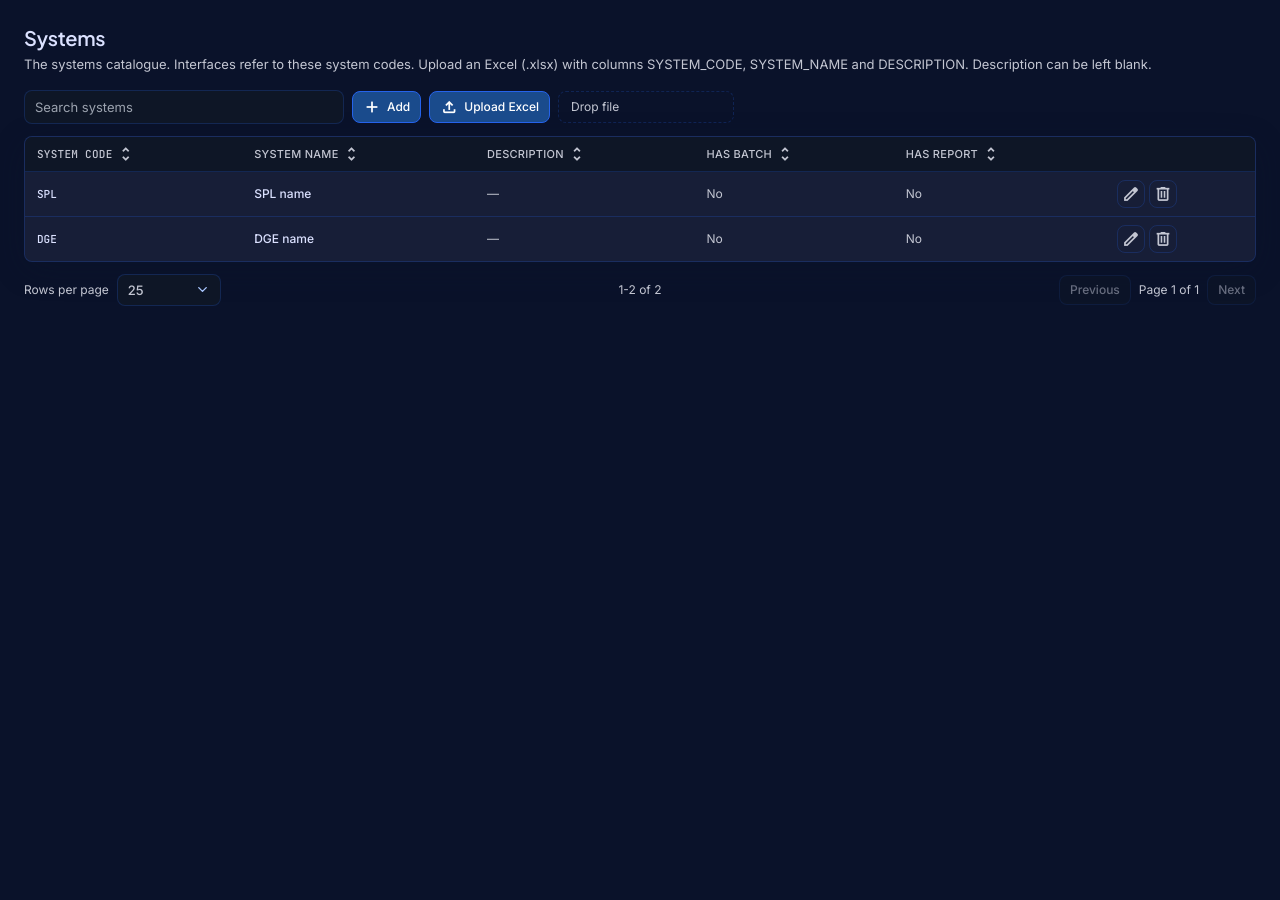
Test: warns with everything a system delete removes and needs the code typed
Expected: the text "SPL name" is shown, [242,172,475,216]
Click the button named "Delete SPL" at (1163,194), box [1149,180,1177,208]
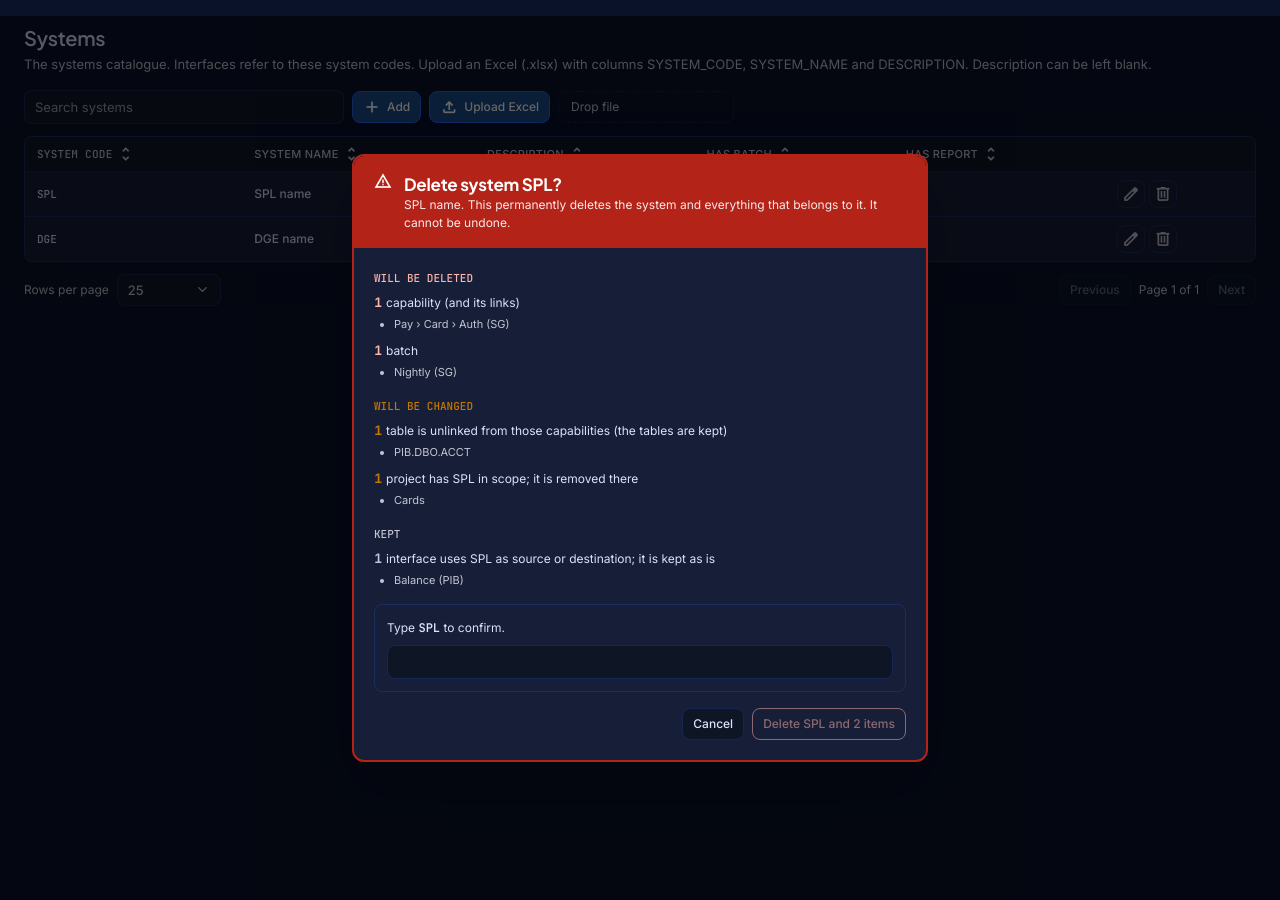
Now the list item "Pay › Card › Auth (SG)" is shown, box [394,317,510,331]
Now the list item "Nightly (SG)" is shown, box [394,365,457,379]
Now the list item "PIB.DBO.ACCT" is shown, box [394,445,471,459]
Type "spl" into the field named "Type the system code to confirm" at (640,662), box [387,645,893,679]
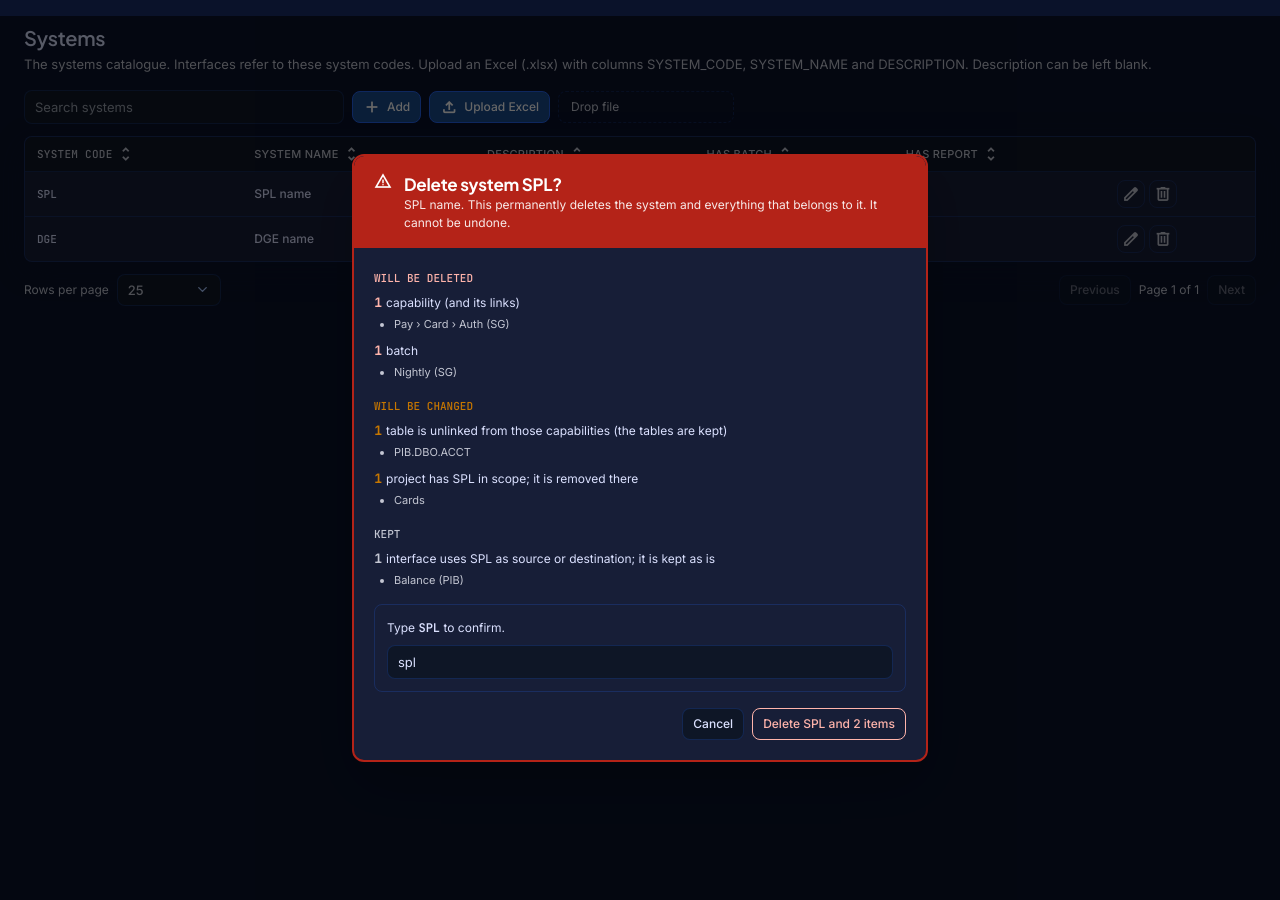
Now the button "Delete SPL and 2 items" is enabled
Click the button "Delete SPL and 2 items" at (829,724), box [752,708,906,740]
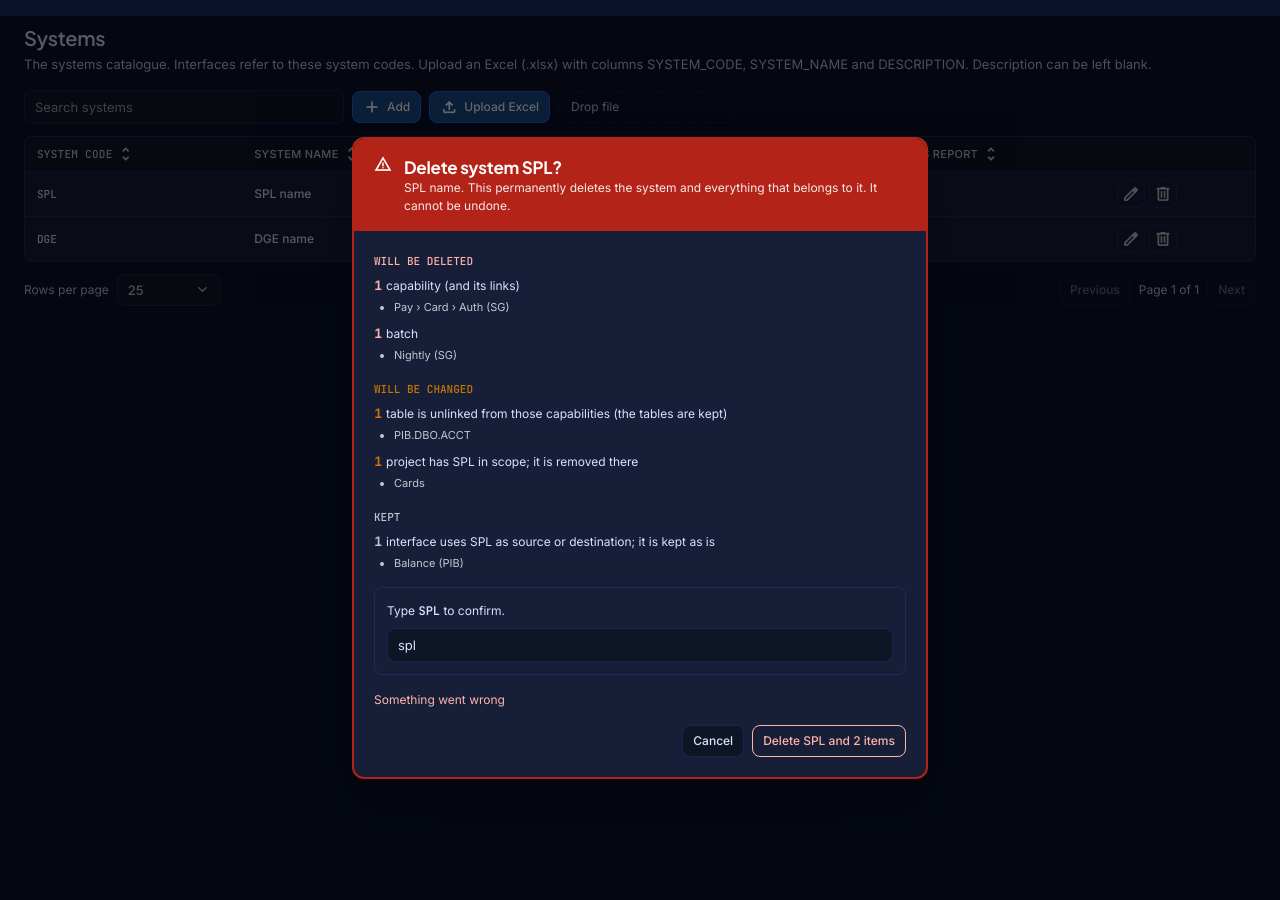
Expected: the text "SPL name" is shown, [242,172,475,216]
Now the text "Something went wrong" is shown, box [374,692,505,707]
Click the button "Delete SPL and 2 items" at (829,741), box [752,725,906,757]
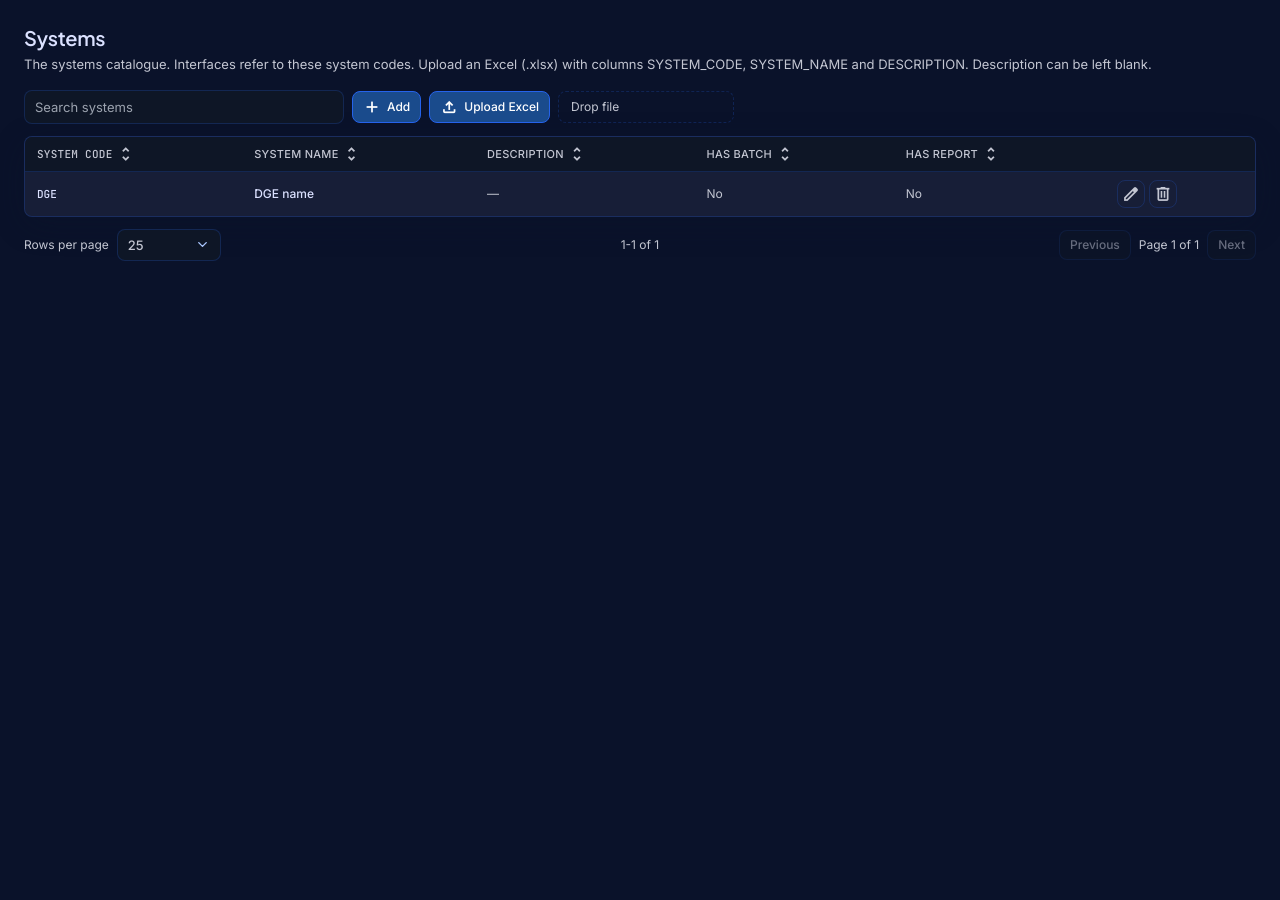
Now the text "SPL name" is gone
